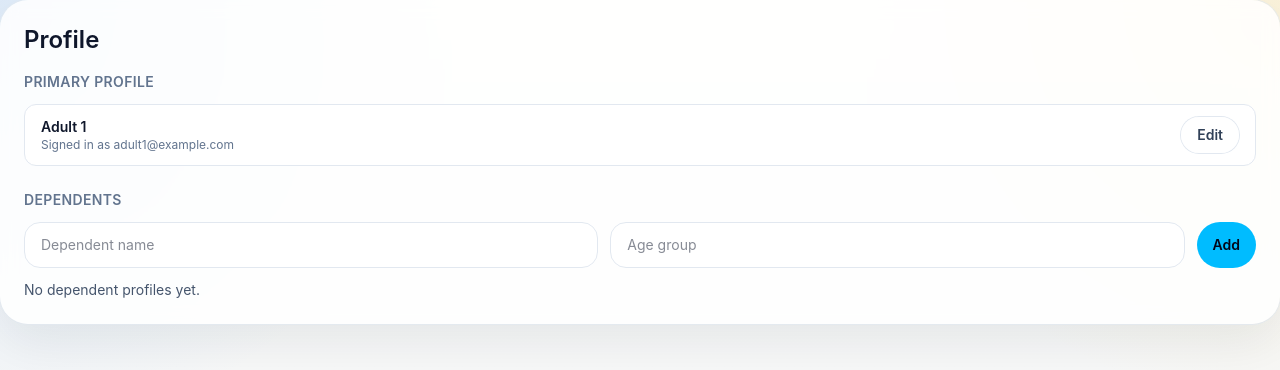
Test: ProfilePage › shows local validation error when dependent name is empty
expect the text "Signed in as adult1@example.com" is shown: met, box [41, 137, 234, 152]
Step 1. Click the button "Add" → (1226, 245), box [1196, 222, 1256, 268]
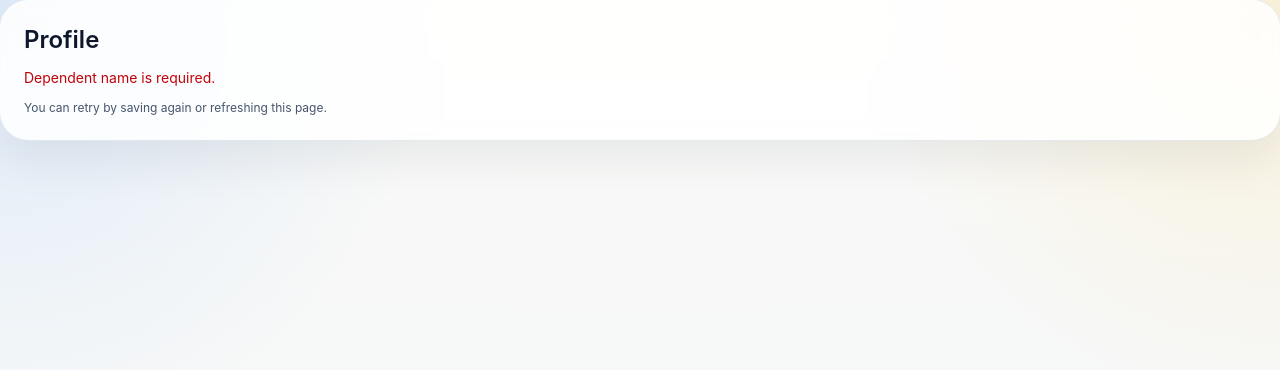
expect the text "Dependent name is required." is shown: met, box [24, 69, 215, 86]
